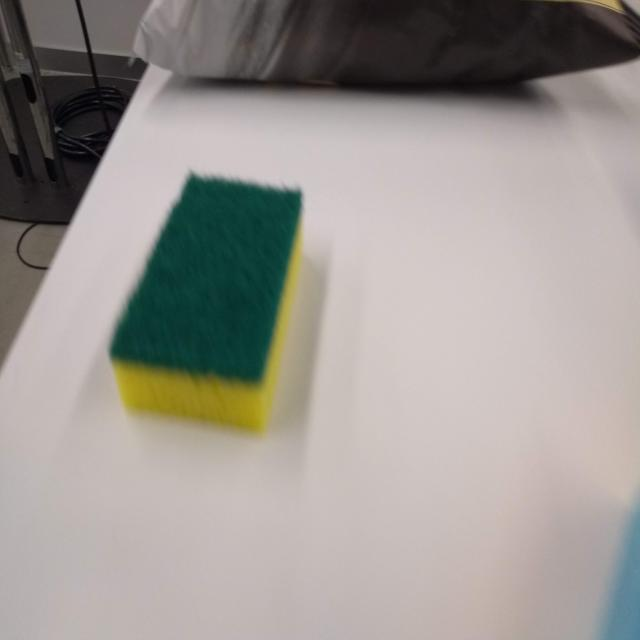scrubby: (107, 165, 307, 438)
